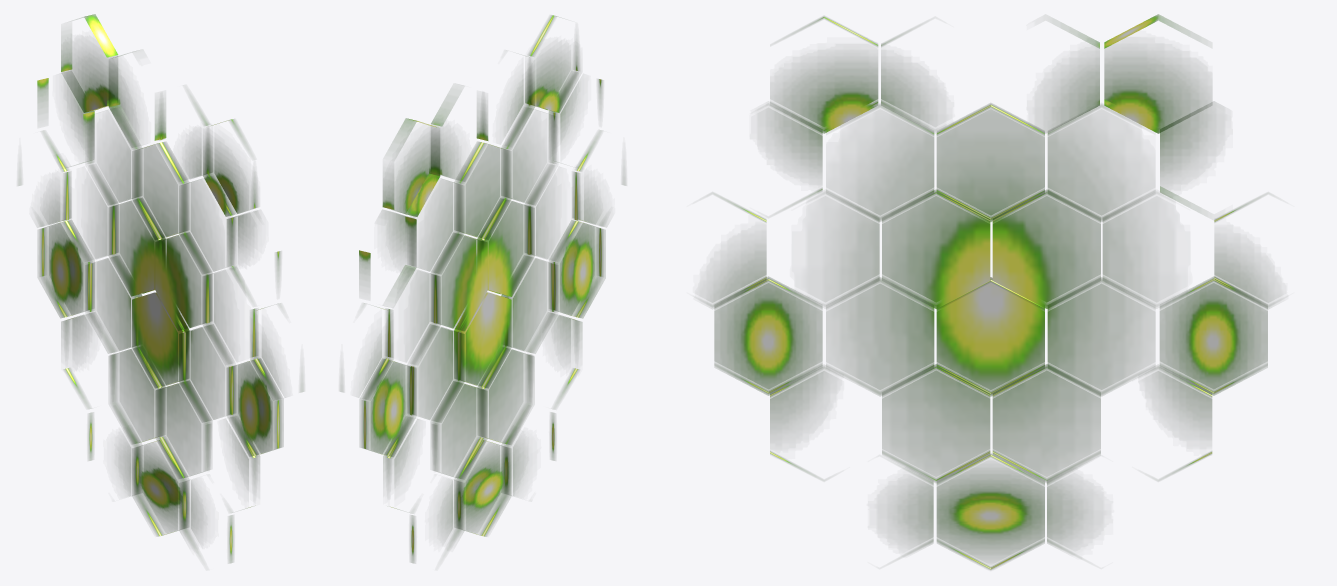
The model's file is 0262_da_dunpai.glb.
3 views of the same model, side by side, from view 1: azimuth 30°, elevation 25°; view 2: azimuth 150°, elevation 25°; view 3: azimuth 270°, elevation 25° (orthographic). The views are drawn at different scales.
Bounding box in the file's own units: 0.0519 × 2.02 × 2.2.
Materials: 1 (1 with a texture image).
